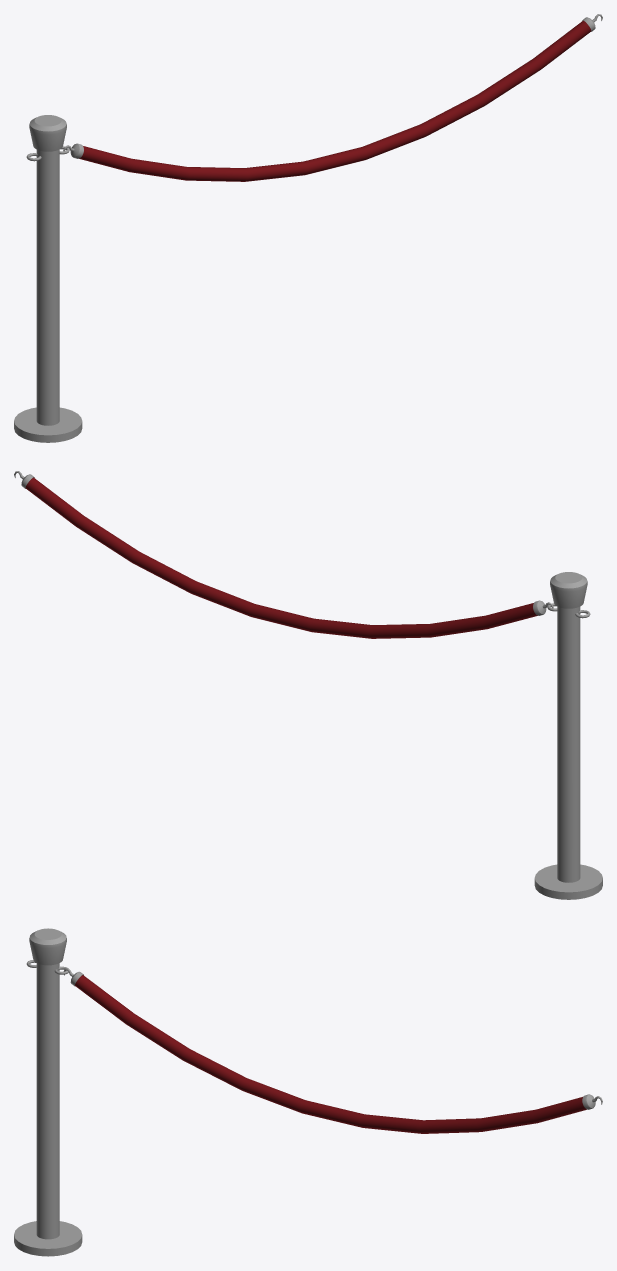
The model's file is fenceFancyPost1Post.fbx.
3 renders of one model, top to bottom at view 1: azimuth 30°, elevation 25°; view 2: azimuth 150°, elevation 25°; view 3: azimuth 330°, elevation 25°, orthographic.
Visible parts, largest first — view 1: Fence Fancy 1 Post; view 2: Fence Fancy 1 Post; view 3: Fence Fancy 1 Post.
Part boxes in pixels (x1,y1,x2,y2): Fence Fancy 1 Post: (14, 14, 602, 442); Fence Fancy 1 Post: (14, 471, 602, 899); Fence Fancy 1 Post: (14, 928, 602, 1256).
Bounding box in the file's own units: 204 × 20.61 × 102.
